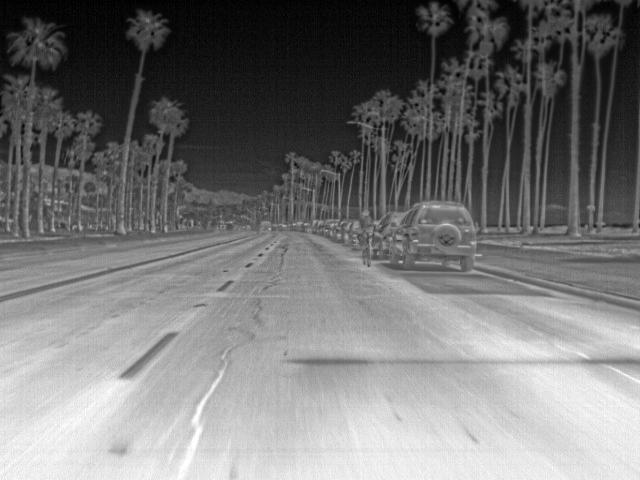car: (388, 199, 479, 272), (371, 209, 404, 260), (349, 222, 365, 248), (323, 218, 338, 236), (258, 218, 273, 234), (344, 228, 356, 244)
person: (360, 208, 373, 254)
